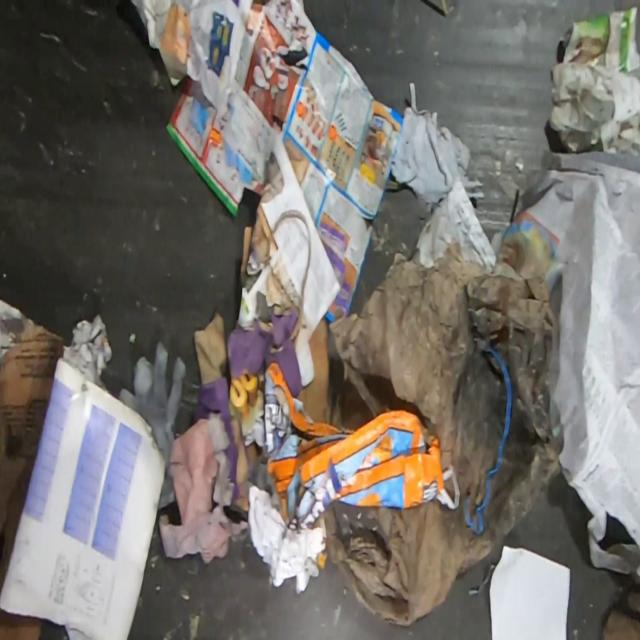cardboard: (0, 324, 66, 596), (296, 317, 332, 425), (192, 311, 227, 384), (0, 609, 43, 640)
soft_plastic: (118, 340, 187, 510)
